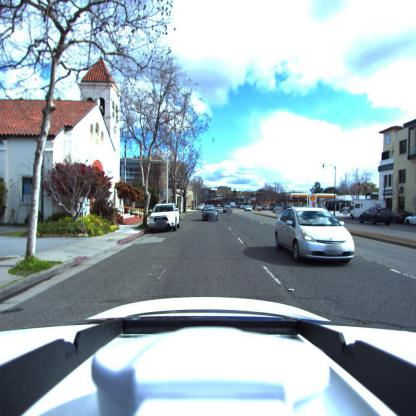car: (274, 207, 357, 265), (149, 203, 181, 232), (359, 206, 392, 225), (201, 206, 218, 221), (404, 211, 416, 225), (244, 205, 252, 211)
